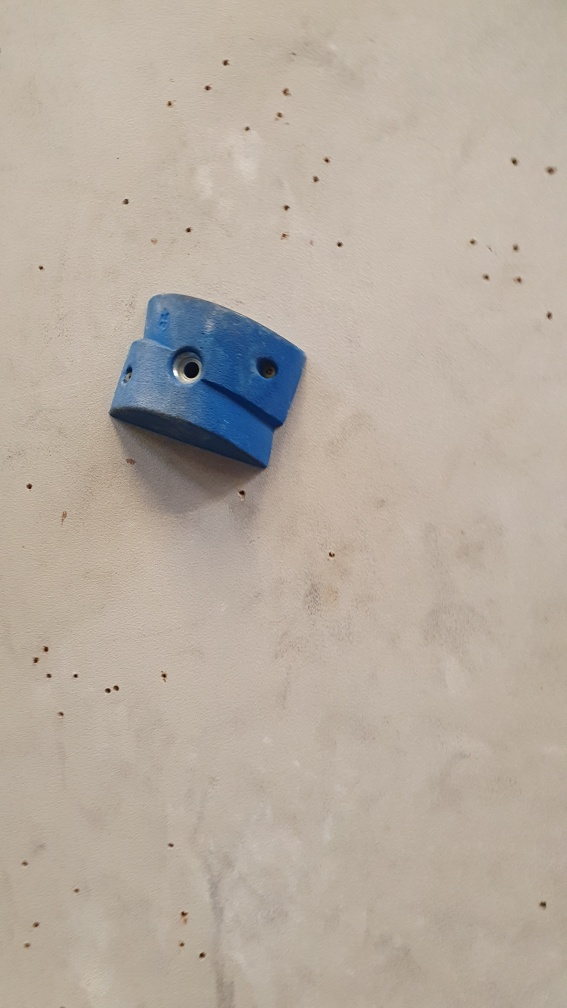Pinch: (110, 293, 310, 474)
